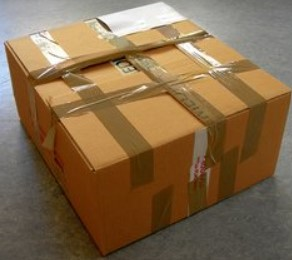stock: (5, 4, 292, 254)
